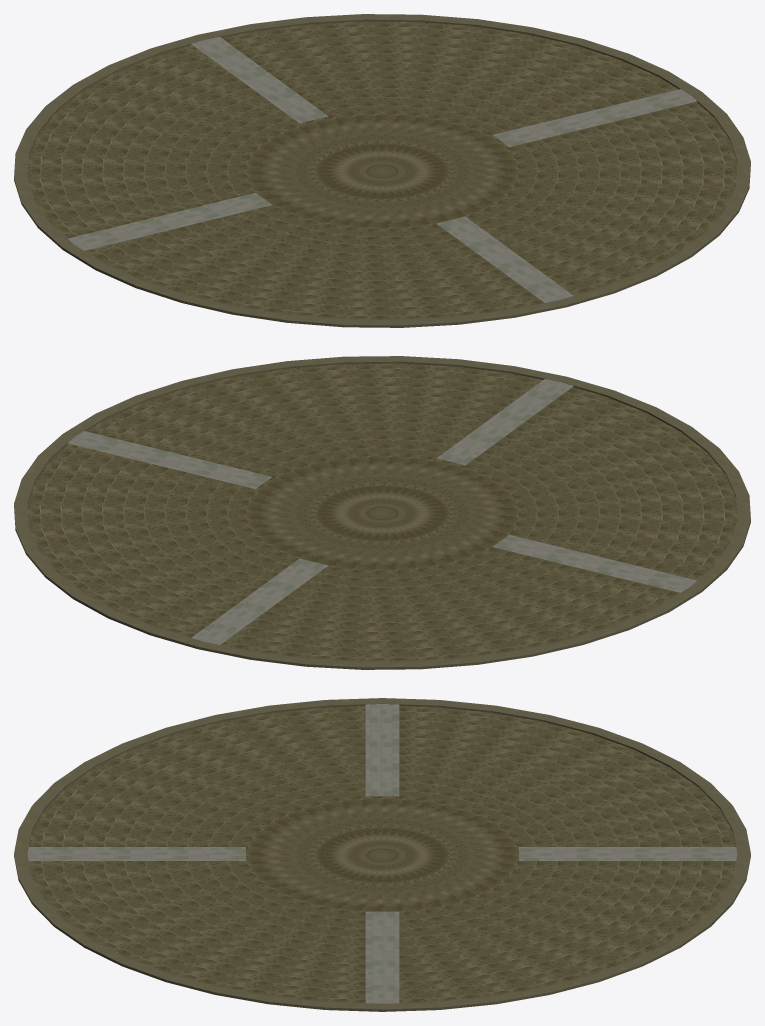
File: village_large_base.glb
3 renders of one model, top to bottom at view 1: azimuth 30°, elevation 25°; view 2: azimuth 150°, elevation 25°; view 3: azimuth 270°, elevation 25°, orthographic.
Parts seen in each view (by area): view 1: ae_forest_village_large_base; view 2: ae_forest_village_large_base; view 3: ae_forest_village_large_base.
Boxes of the visible parts, x1,y1,x2,y2 form: ae_forest_village_large_base: (14,14,750,327); ae_forest_village_large_base: (14,356,750,669); ae_forest_village_large_base: (14,698,750,1011).
Size of the model in its own units: 1.64 by 0.00599 by 1.64.
1 material, 1 textured.
